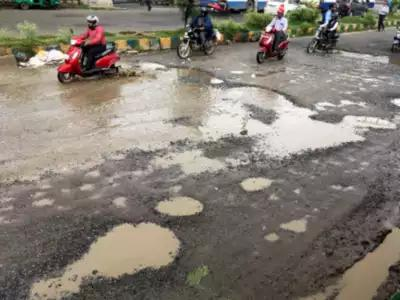Pothole: (2, 62, 398, 199), (0, 216, 190, 299), (311, 181, 399, 299)
